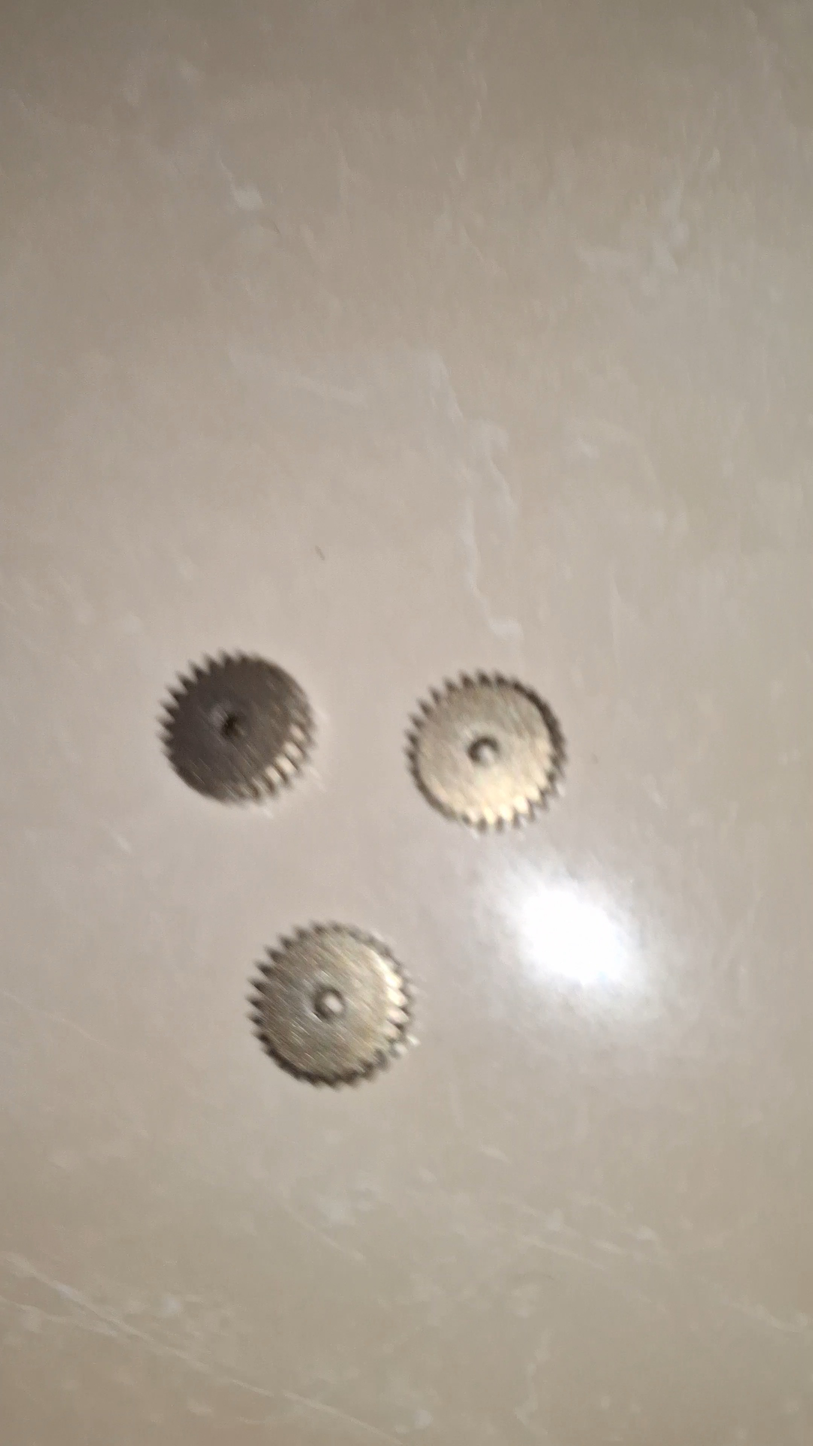spur gear: (250, 925, 409, 1086), (408, 674, 565, 828), (162, 654, 313, 802)
